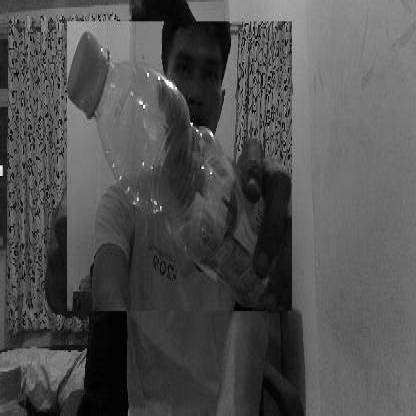plastic_bottles: (68, 21, 292, 311)
